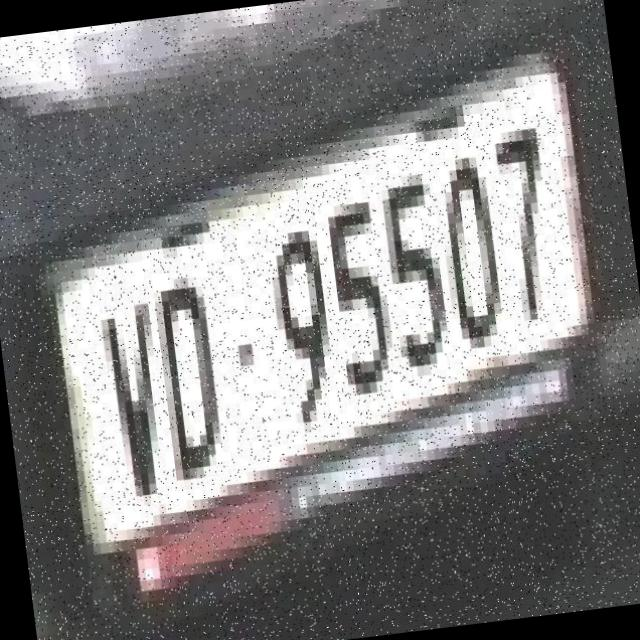LicensePlate: (18, 45, 640, 562)
